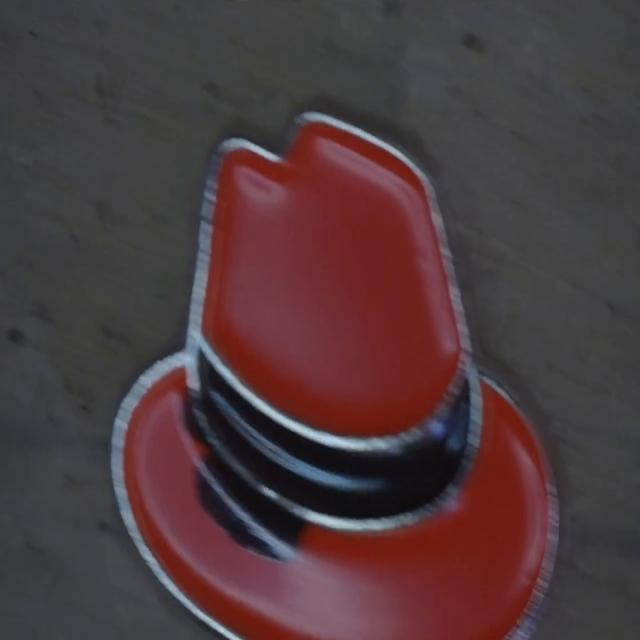Hatband: (190, 349, 478, 526)
Paint_Leak: (198, 449, 302, 560)
RedHatPin: (112, 113, 559, 637)
